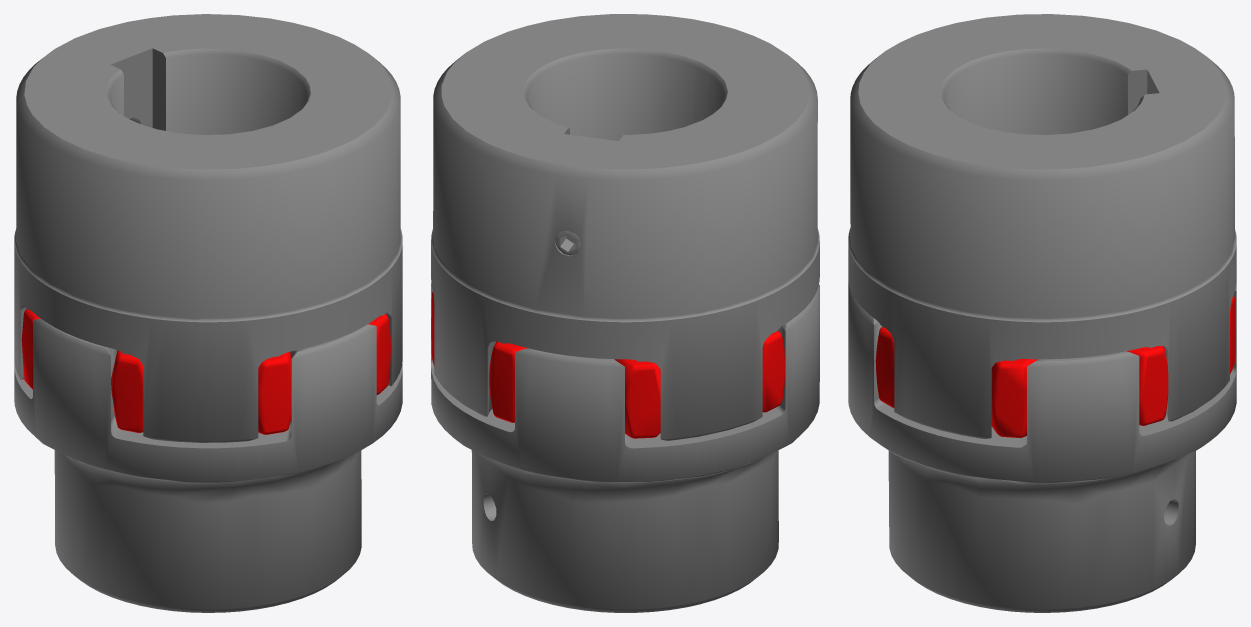
File: Motor&PumpCoupling.fbx
The picture shows the model from 3 angles, left to right: view 1: azimuth 30°, elevation 25°; view 2: azimuth 150°, elevation 25°; view 3: azimuth 270°, elevation 25°; orthographic projection.
Visible parts, largest first — view 1: color-2, white-pw-mt11050; view 2: color-2, white-pw-mt11050; view 3: color-2, white-pw-mt11050.
Part boxes in pixels (box(x1,y1,x2,y2)): color-2: box(14, 14, 402, 612); white-pw-mt11050: box(21, 309, 390, 434); color-2: box(431, 14, 819, 612); white-pw-mt11050: box(431, 292, 785, 438); color-2: box(848, 14, 1236, 612); white-pw-mt11050: box(875, 295, 1235, 437).
Size of the model in its own units: 94.99 by 124 by 94.99.
